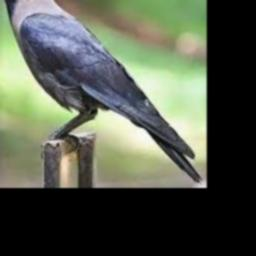Crow: (0, 0, 201, 184)
